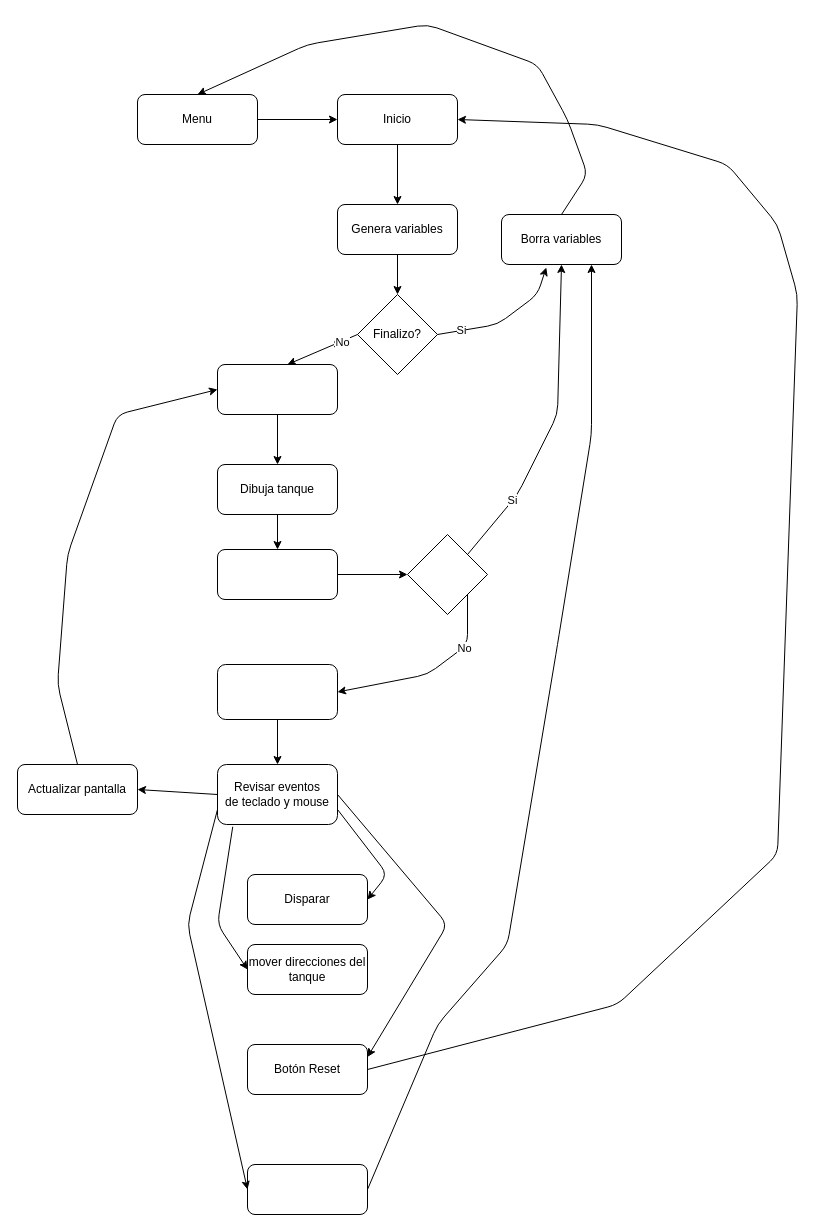
Image size: 823x1232. Some labels were removed from this diagram. The shapes that lost their labels are listed below. From the top down, each one's centre as x and y in pixels, then its label:
(x=277, y=389): Dibuja terreno
(x=277, y=574): Revisa colicion
(x=447, y=574): coliciona con un tanque
(x=277, y=692): Actualiza variables
(x=307, y=1189): Botón Salir
